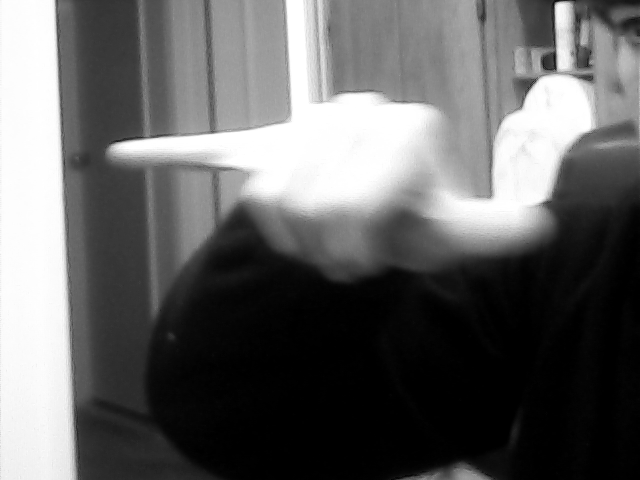aloha: (96, 86, 562, 289)
